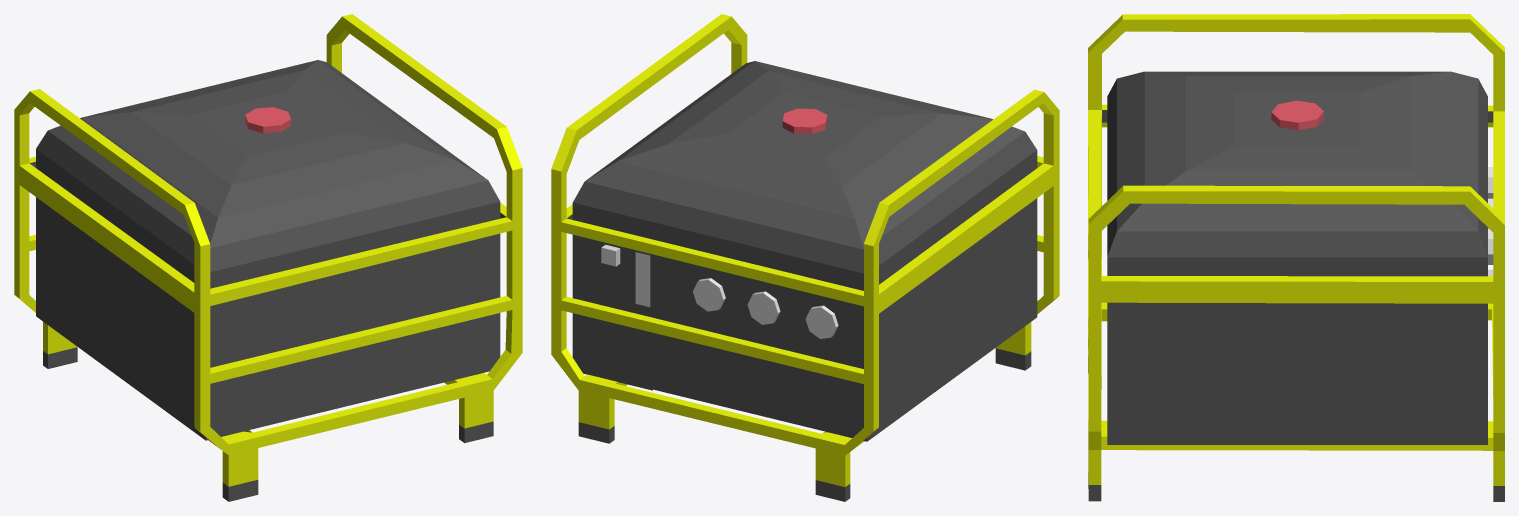
The model's file is generator1.fbx.
3 views of the same model, side by side, from view 1: azimuth 30°, elevation 25°; view 2: azimuth 150°, elevation 25°; view 3: azimuth 270°, elevation 25° (orthographic). The views are drawn at different scales.
Parts seen in each view (by area): view 1: Cube, Cube.007, Cube.001; view 2: Cube, Cube.007, Cube.001, Cube.004, Cube.002, Cube.006, Cube.003; view 3: Cube, Cube.007, Cube.001.
Part boxes in pixels (x1,y1,x2,y2): Cube: (36,60,500,440); Cube.007: (14,14,522,501); Cube.001: (245,107,290,133); Cube: (572,61,1037,441); Cube.007: (551,14,1059,501); Cube.001: (782,108,827,134); Cube.004: (693,278,725,311); Cube.002: (805,305,838,338); Cube.006: (635,252,650,306); Cube.003: (747,291,780,324); Cube: (1107,71,1487,444); Cube.007: (1088,14,1504,501); Cube.001: (1271,100,1323,130).
Bounding box in the file's own units: 219 × 190 × 219.
